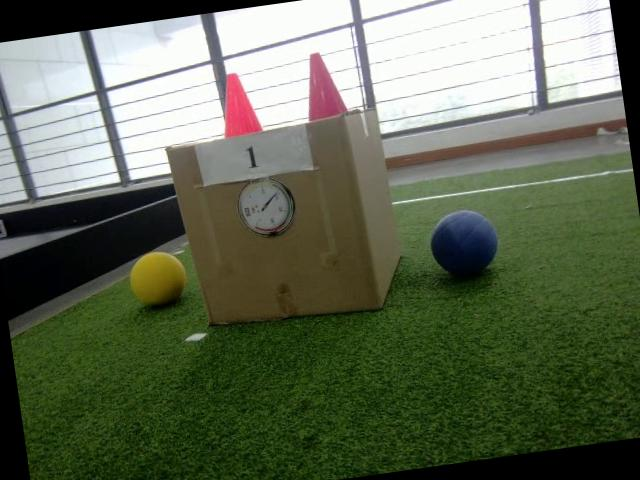1: (243, 140, 260, 170)
Dashboard: (233, 174, 300, 242)
blue_ball: (426, 205, 504, 281)
orange_barrel: (214, 70, 264, 139)
red_barrel: (296, 50, 351, 122)
ssi: (242, 206, 254, 219)
yellow_ball: (128, 249, 190, 310)
